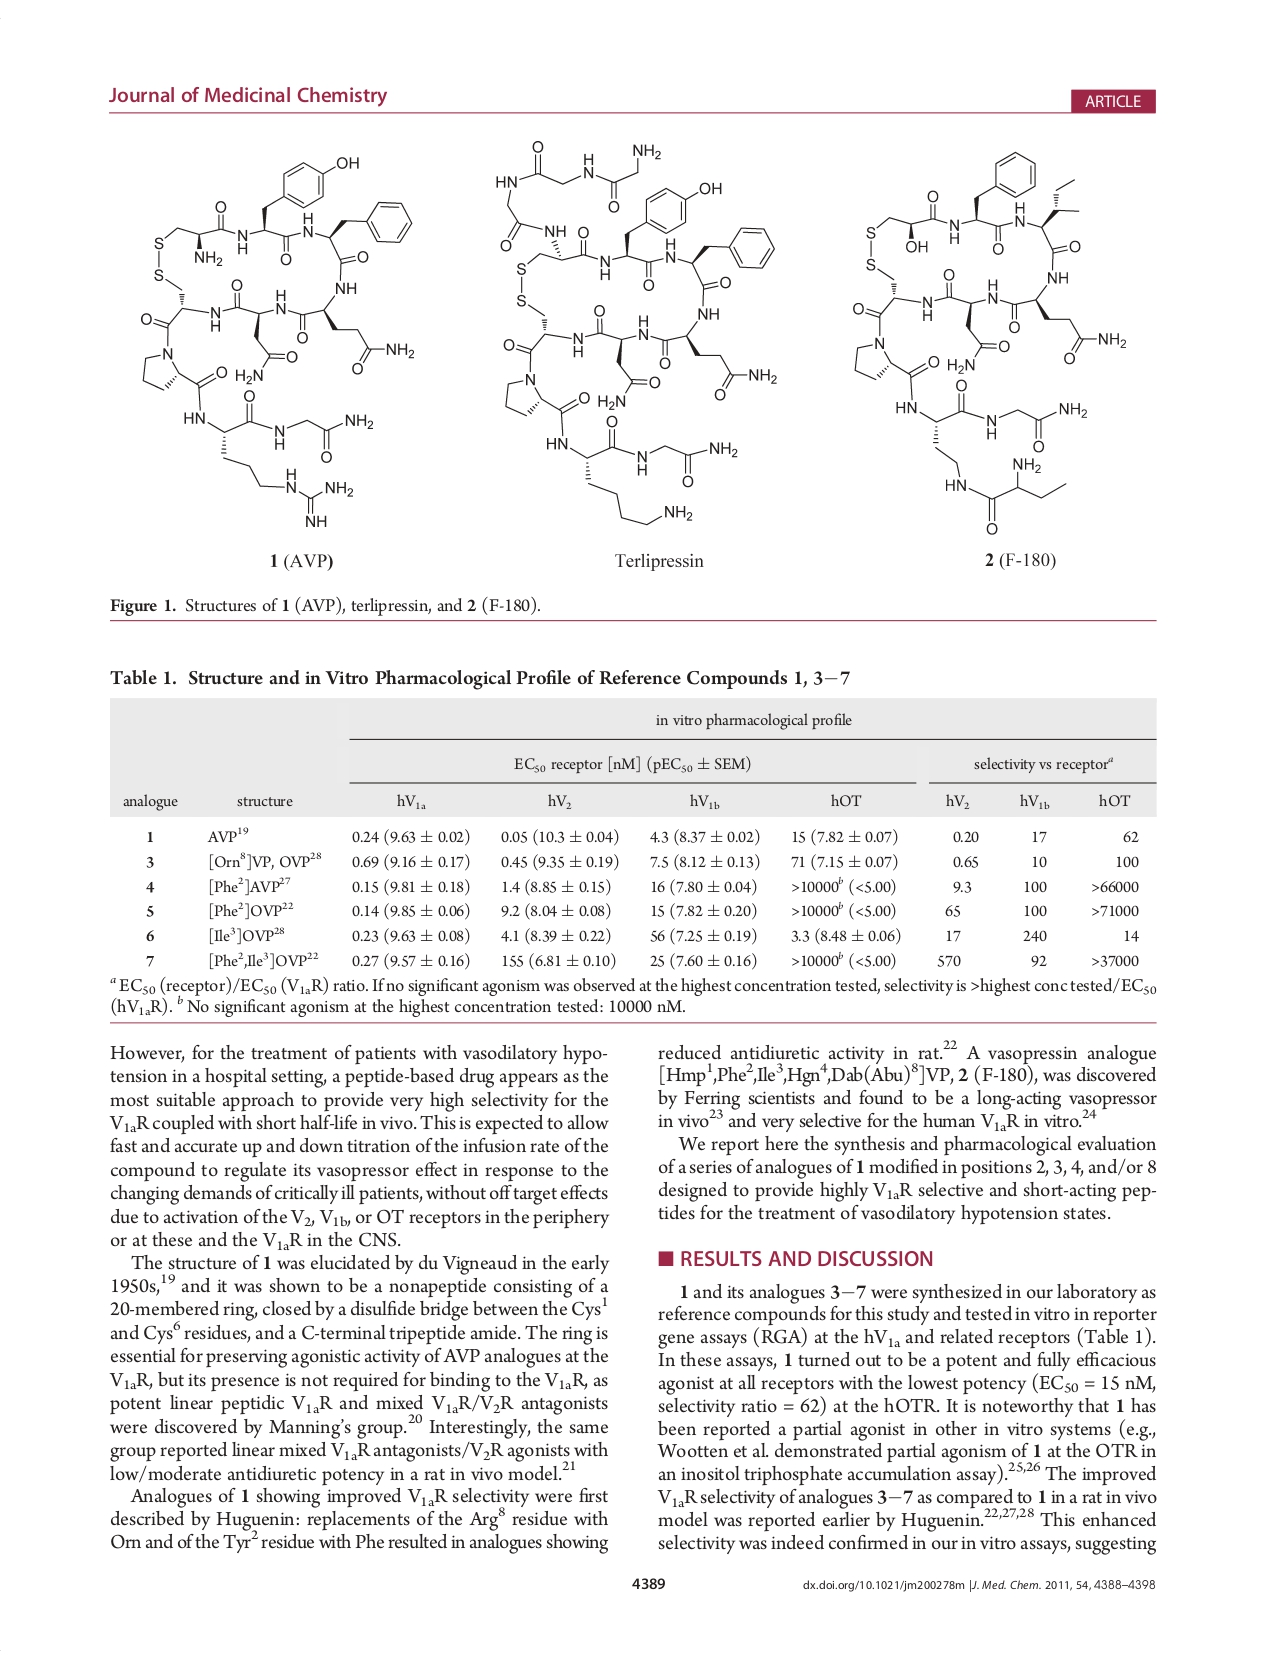exist_molecular: (489, 130, 786, 531), (847, 148, 1132, 539), (136, 150, 422, 531)
